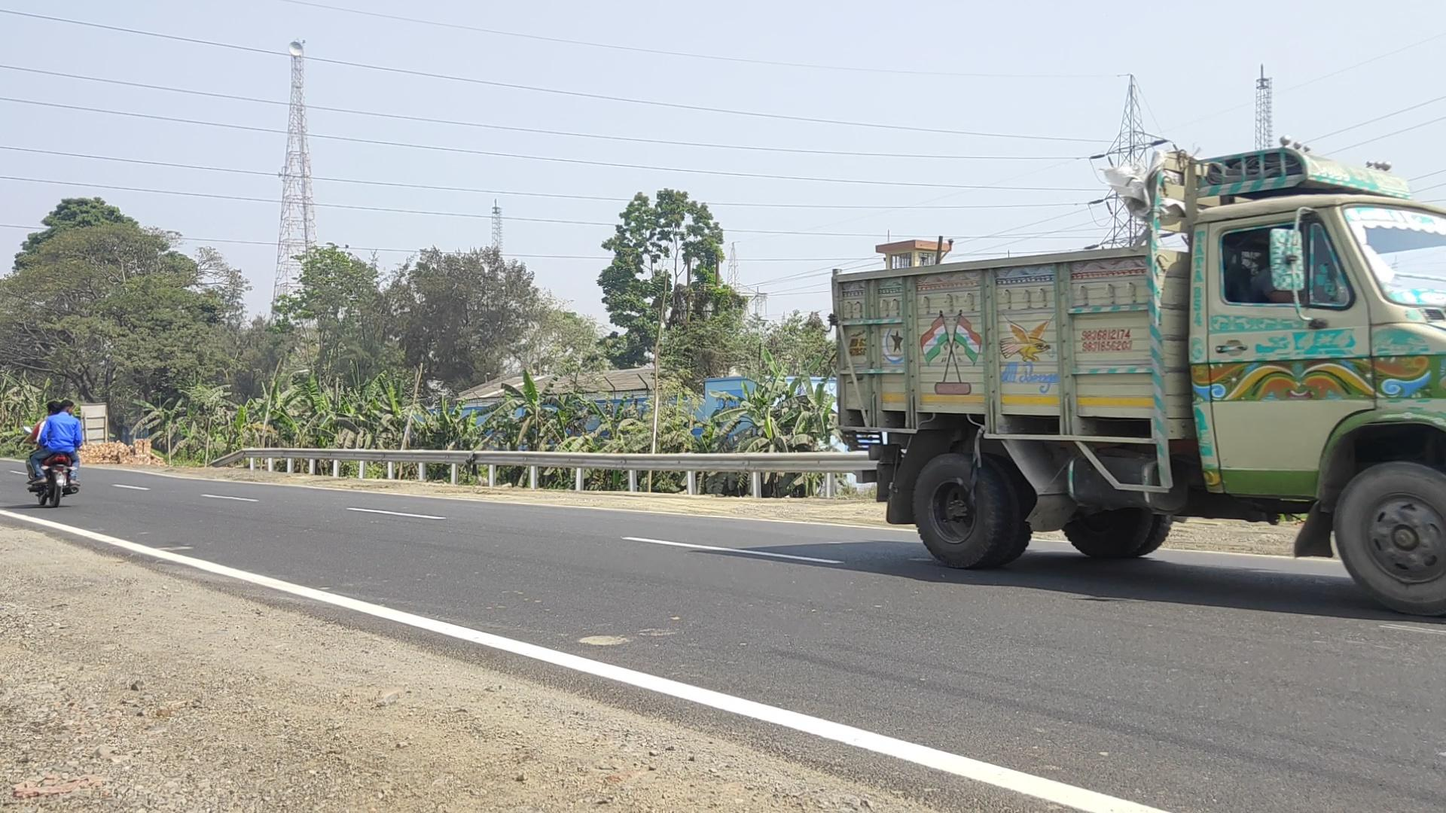bike: (23, 400, 84, 508)
truck: (830, 134, 1446, 615)
